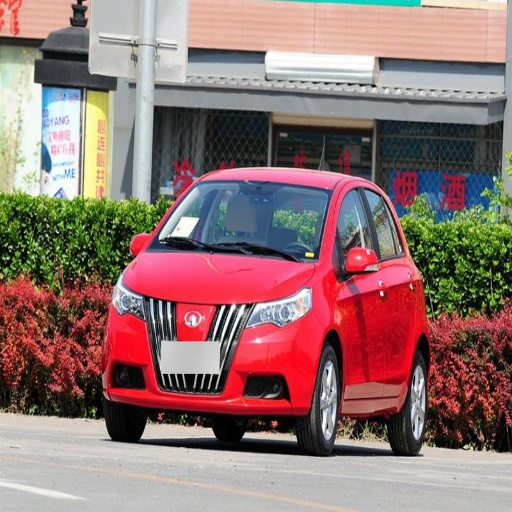front_bumper: (148, 299, 319, 413)
front_glass: (147, 181, 332, 261)
front_left_door: (335, 184, 386, 396)
